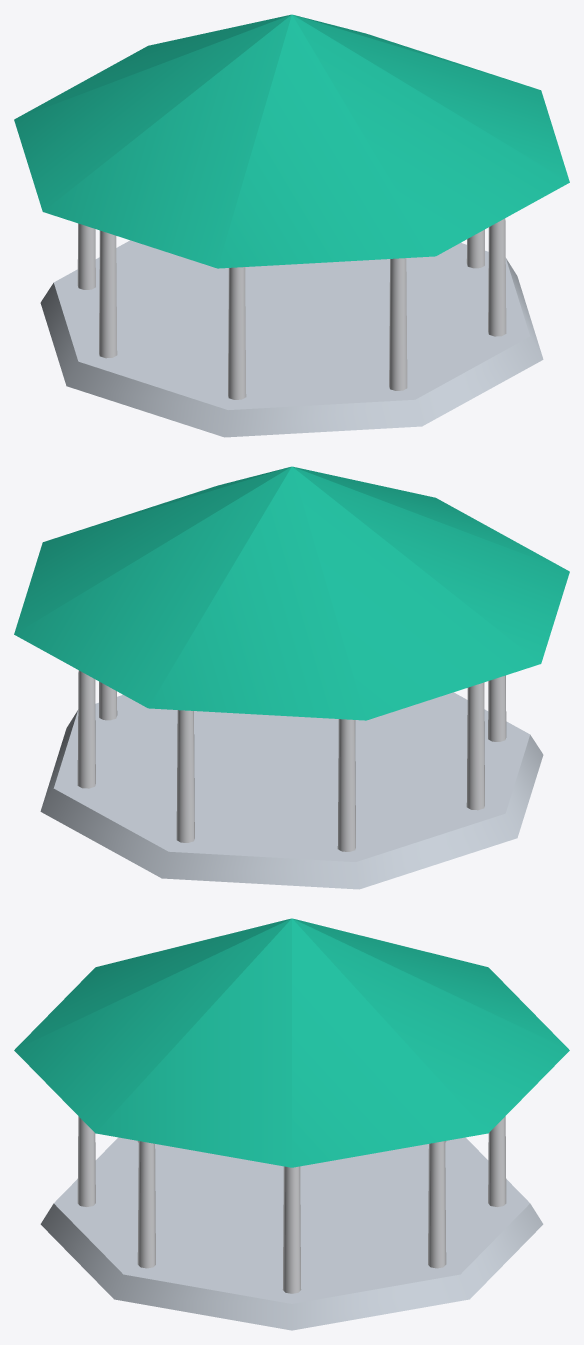
Rendered from gazebo.glb.
3 views of the same model, one above another, from view 1: azimuth 30°, elevation 25°; view 2: azimuth 150°, elevation 25°; view 3: azimuth 270°, elevation 25° (orthographic). The views are drawn at different scales.
Bounding box in the file's own units: 8.4 × 5.1 × 8.4.
